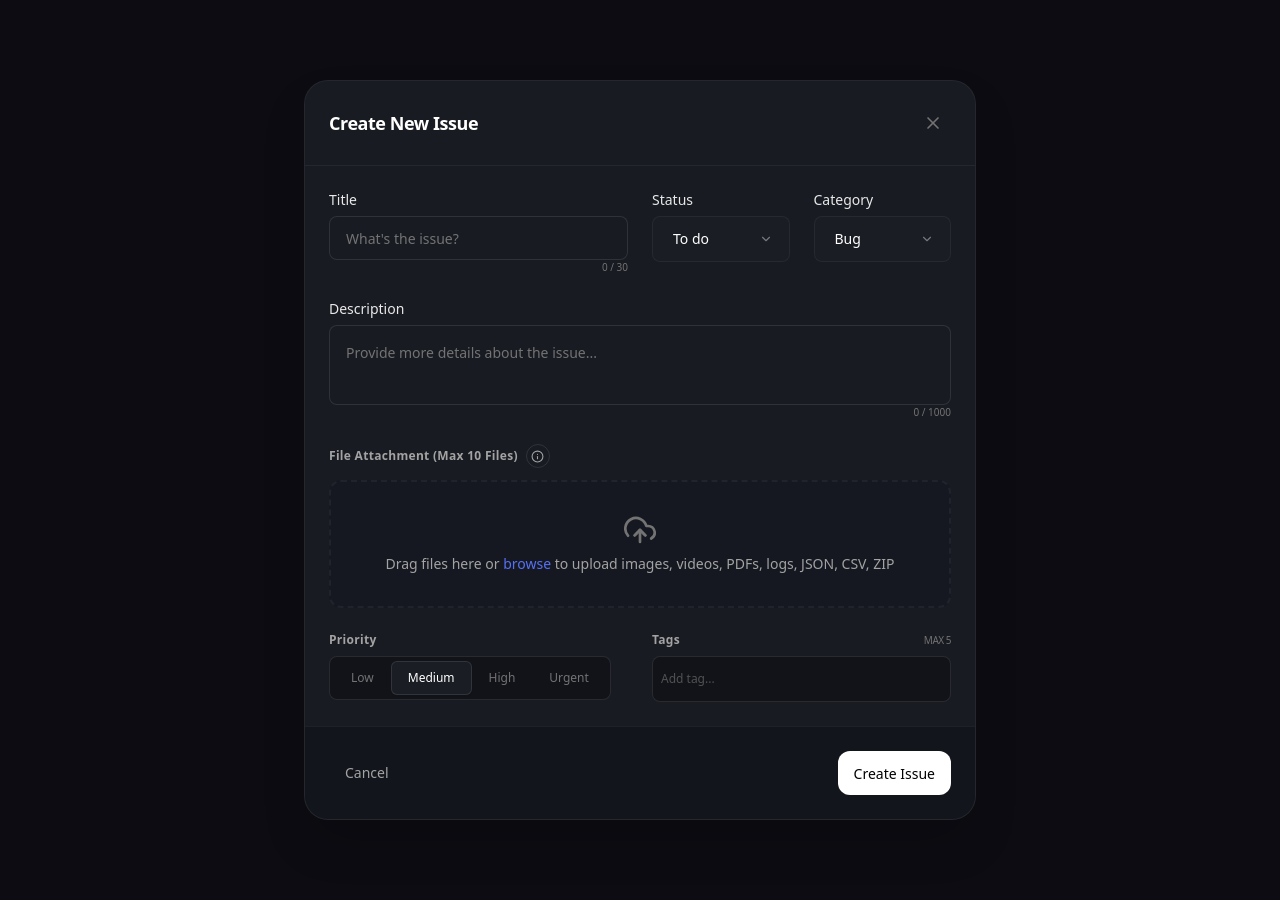
Test: IssueModal › Create Mode › shows a non-blocking warning when issue creation succeeds but the first update fails
Type "New Crash Bug" into the field with placeholder "What's the issue?" at coordinates (478, 238), box [329,216,628,260]
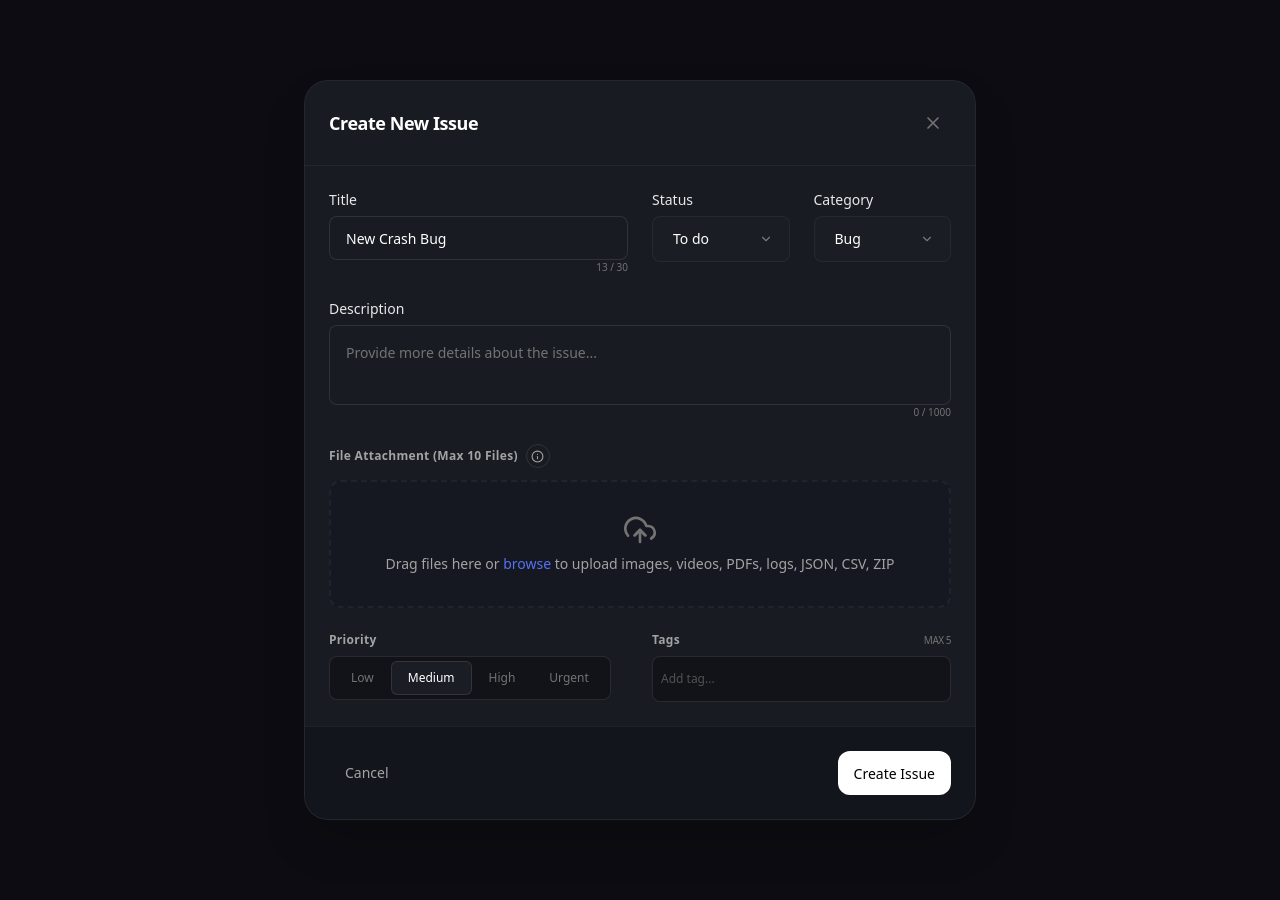
Type "More than 5 characters description for valid payload triggers." into the text box with placeholder "Provide more details about the issue..." at coordinates (640, 365), box [329,325,951,405]
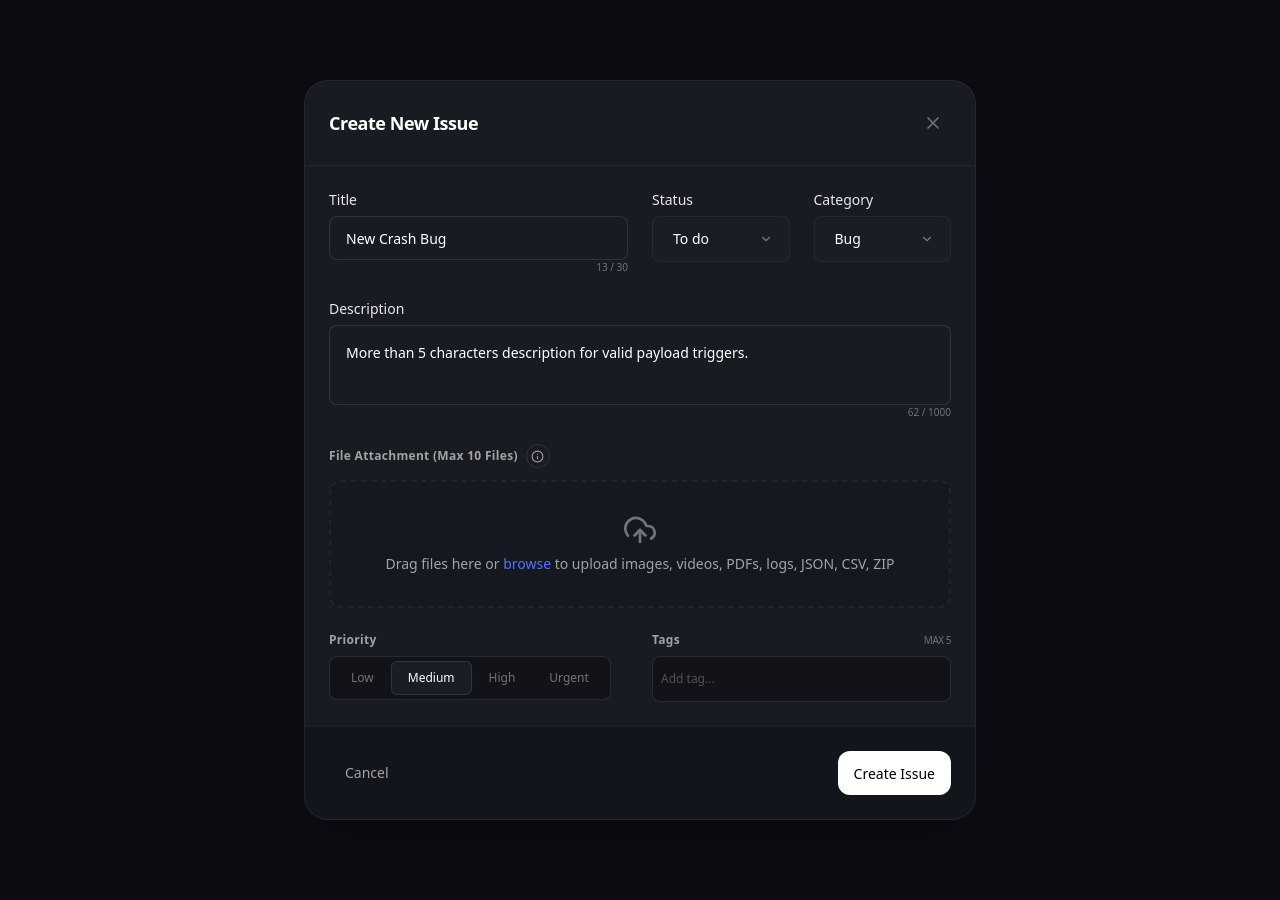
Click the button "Create Issue" at coordinates (894, 773), box [838,751,951,795]
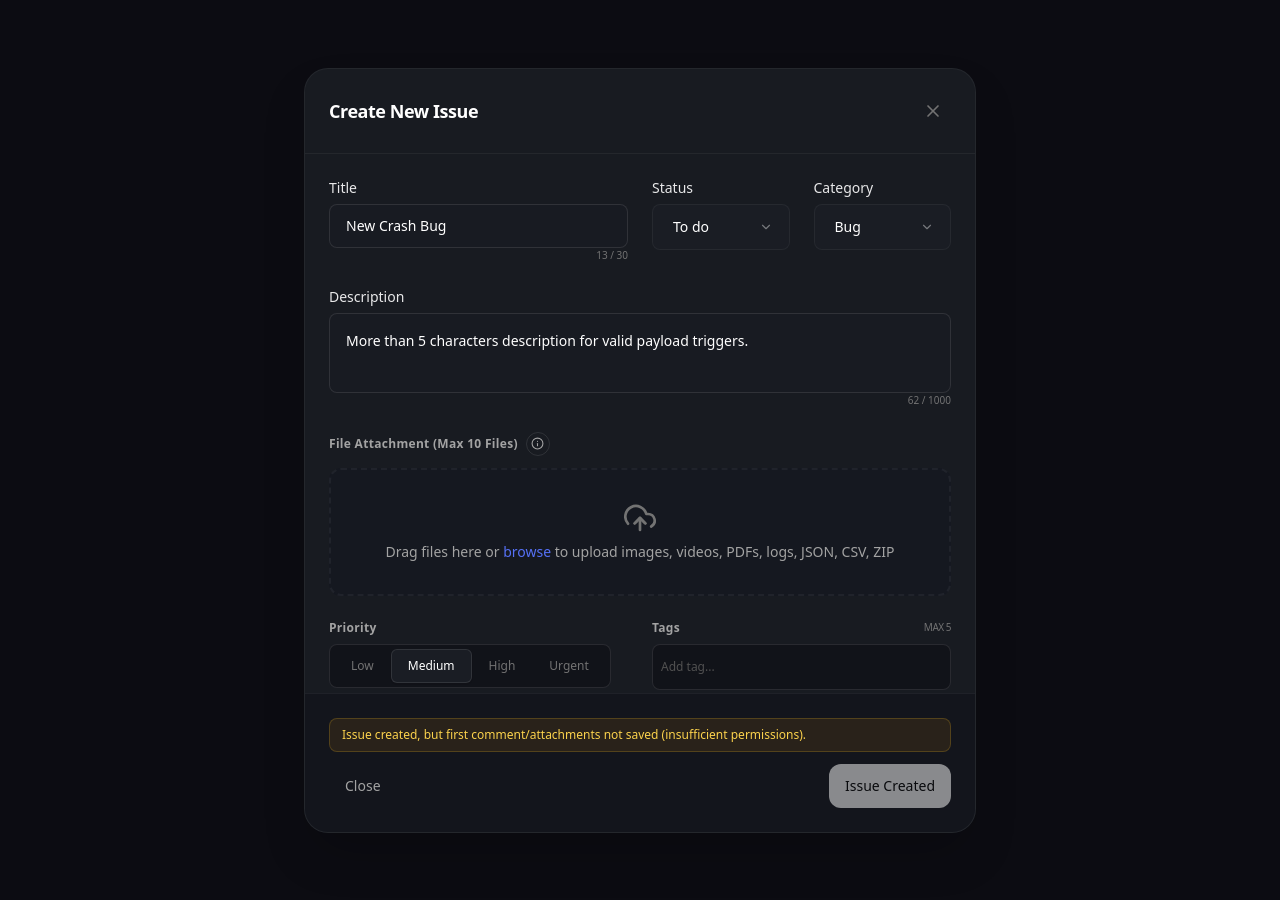
Check: the text "Issue created, but first comment/attachments not saved (insufficient permissions)." is shown, box [342,726,806,742]
Check: the button "Issue Created" is shown, box [829,764,951,808]
Check: the button "Close" is shown, box [329,768,396,804]
